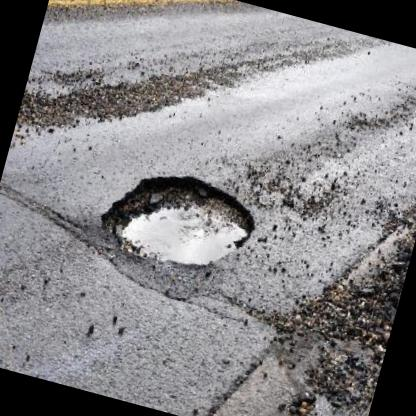pothole: (90, 151, 266, 283)
